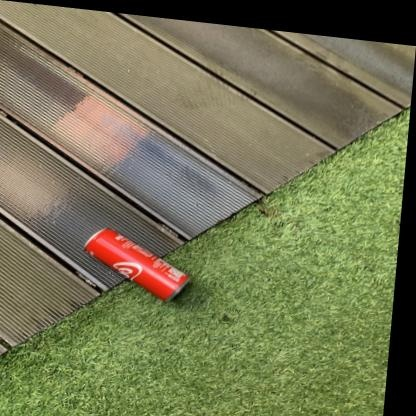trash: (84, 228, 189, 300)
